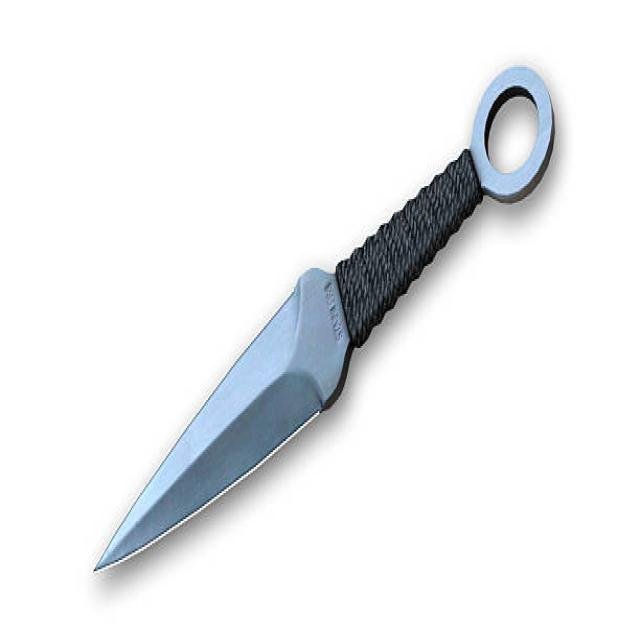knife: (90, 57, 557, 583)
